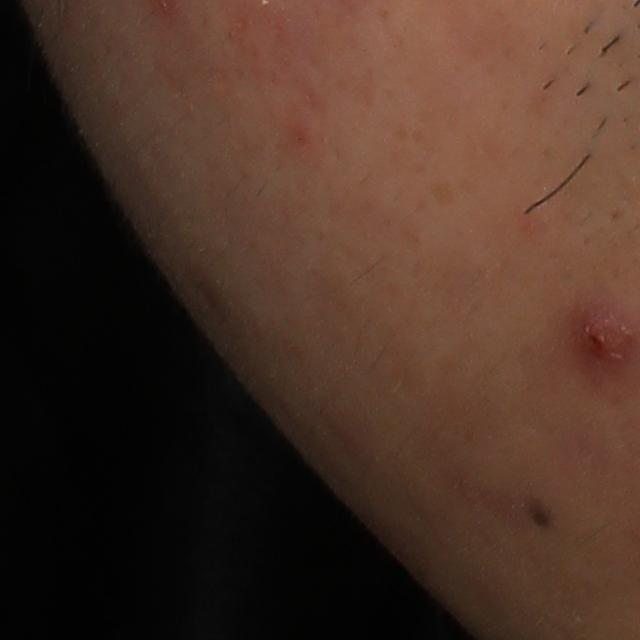nevus: (526, 498, 556, 526)
